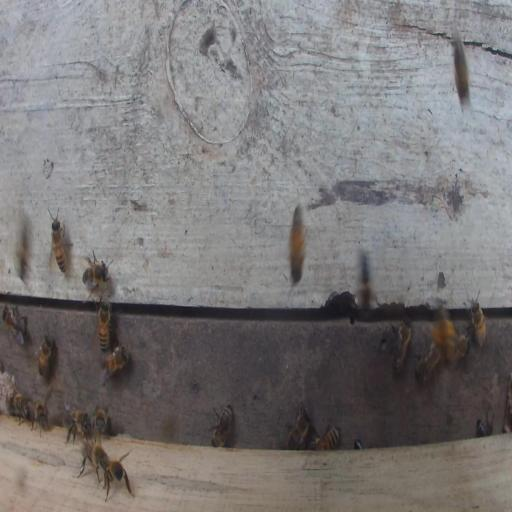nonpollenbee: (100, 449, 133, 502), (289, 202, 307, 284), (77, 437, 107, 482), (81, 249, 112, 292), (391, 316, 413, 375), (453, 34, 470, 107), (467, 290, 487, 349), (2, 303, 28, 346), (415, 342, 441, 384), (211, 402, 233, 448), (63, 408, 91, 444), (101, 343, 130, 377), (286, 409, 310, 450), (30, 398, 51, 436), (310, 425, 340, 451), (52, 219, 66, 274), (38, 333, 54, 377), (9, 392, 31, 424), (98, 300, 110, 352), (93, 405, 109, 434), (458, 334, 469, 358), (477, 419, 489, 437), (354, 439, 364, 449)
pollenbee: (432, 306, 455, 365)
